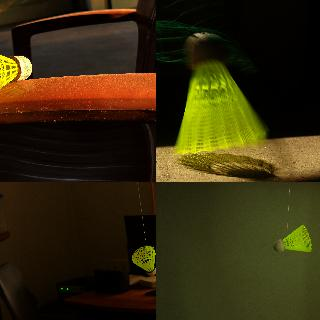shuttlecock: (172, 33, 268, 154), (0, 38, 32, 111), (273, 224, 311, 252), (132, 245, 155, 276)
